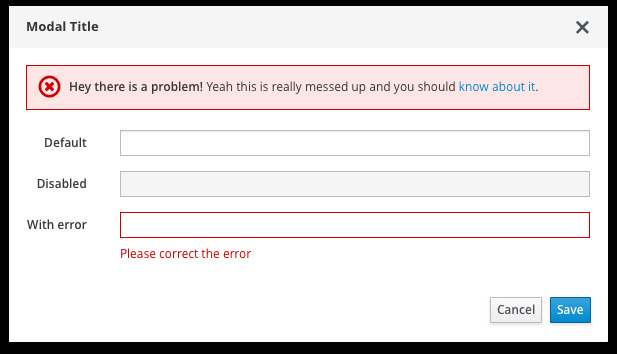error_field: (119, 210, 591, 239)
error_message: (69, 80, 540, 94), (119, 248, 251, 260)
